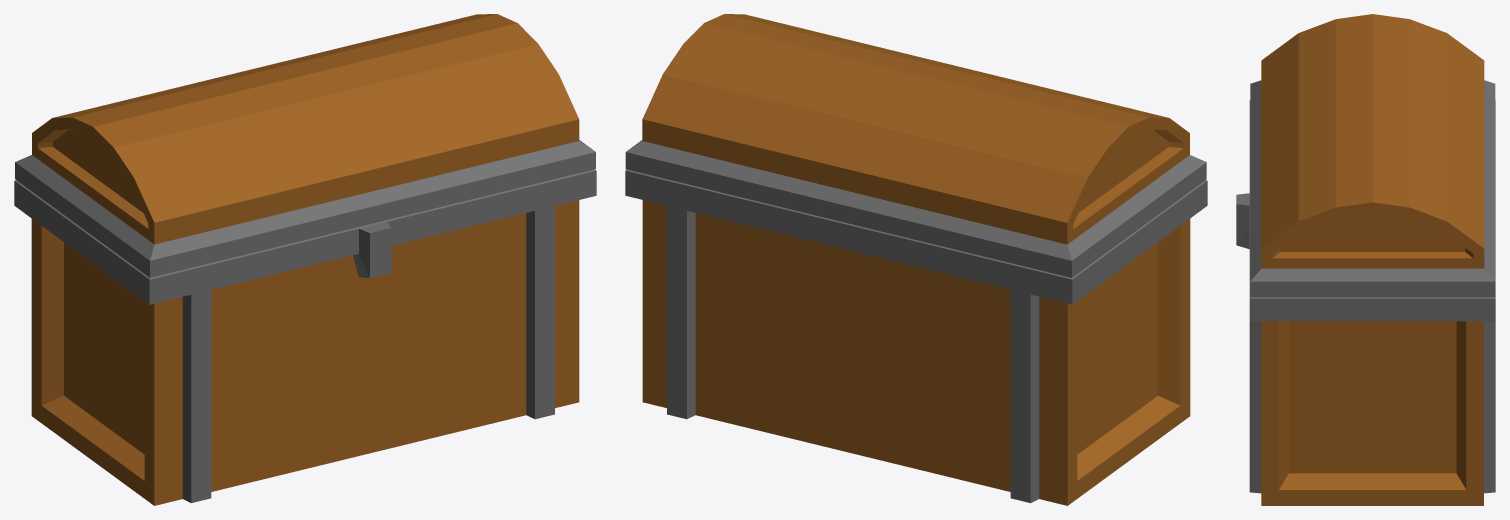
Rendered from Chest_Closed_01.fbx.
The picture shows the model from 3 angles, left to right: view 1: azimuth 30°, elevation 25°; view 2: azimuth 150°, elevation 25°; view 3: azimuth 270°, elevation 25°; orthographic projection. The views are drawn at different scales.
Parts seen in each view (by area): view 1: Chest_Close; view 2: Chest_Close; view 3: Chest_Close.
Boxes of the visible parts, x1=… form: Chest_Close: x1=14, y1=14, x2=596, y2=505; Chest_Close: x1=625, y1=14, x2=1207, y2=505; Chest_Close: x1=1236, y1=14, x2=1495, y2=505.
Size of the model in its own units: 1.05 by 0.7517 by 0.582.
